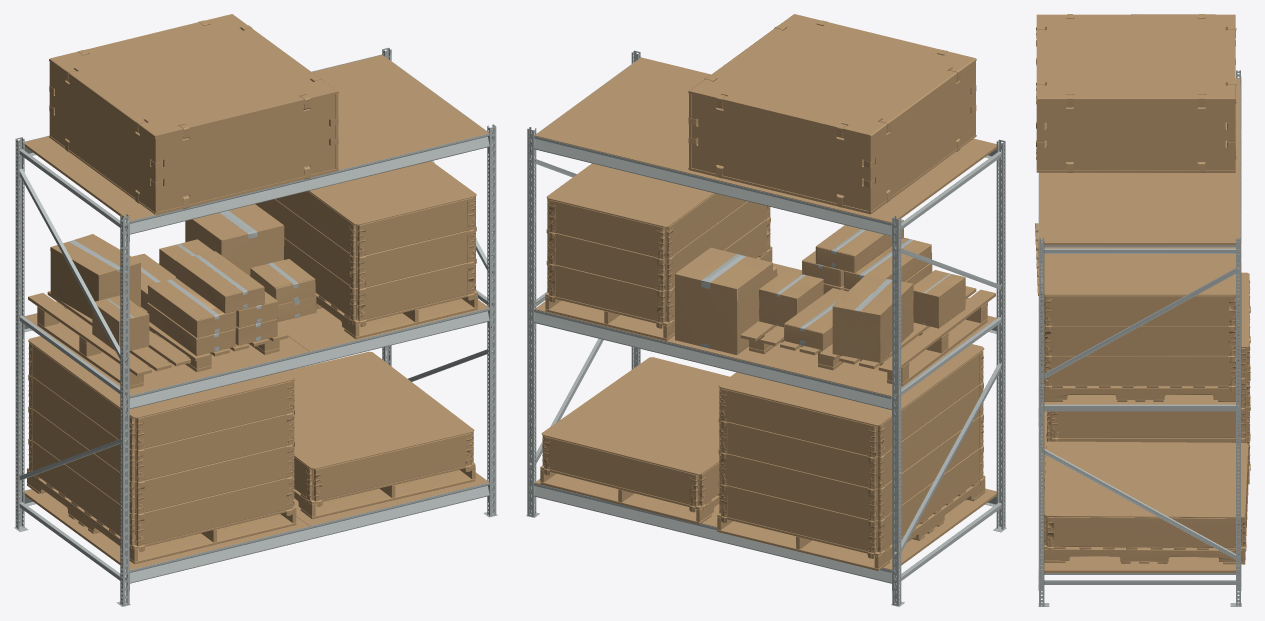
Rendered from rack_composition_a20.glb.
3 renders of one model, left to right at view 1: azimuth 30°, elevation 25°; view 2: azimuth 150°, elevation 25°; view 3: azimuth 270°, elevation 25°, orthographic. The views are drawn at different scales.
Bounding box in the file's own units: 2.45 × 2.9 × 1.3.
